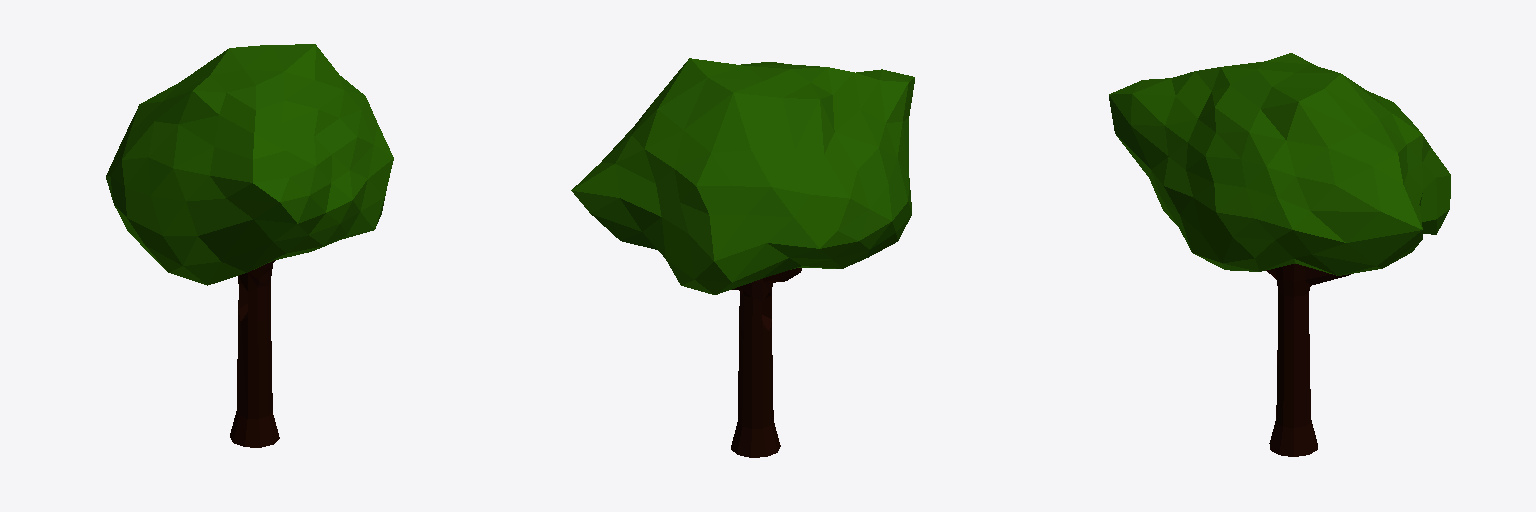
Rendered from tree1.obj.
3 views of the same model, side by side, from view 1: azimuth 30°, elevation 25°; view 2: azimuth 150°, elevation 25°; view 3: azimuth 270°, elevation 25° (orthographic).
Visible parts, largest first — view 1: t3-green_Cylinder; view 2: t3-green_Cylinder; view 3: t3-green_Cylinder.
Part boxes in pixels (bbox=[...]): t3-green_Cylinder: bbox=[106, 44, 393, 447]; t3-green_Cylinder: bbox=[571, 58, 914, 457]; t3-green_Cylinder: bbox=[1109, 53, 1450, 456].
Bounding box in the file's own units: 6.51 × 9.23 × 7.64.